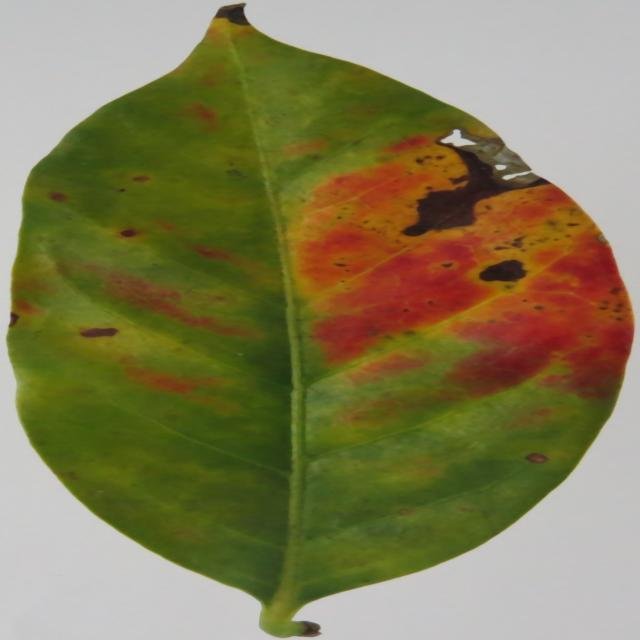DeficienciaNutricional-Fosforo: (8, 5, 632, 638)
